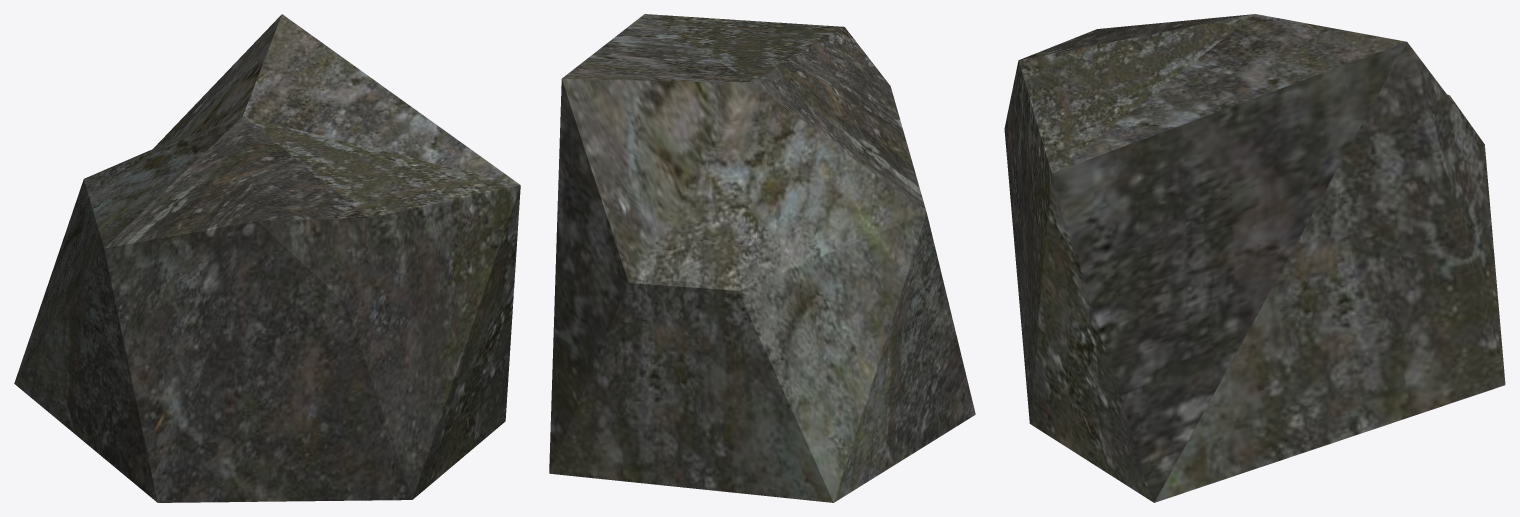
File: singleBigRock.fbx
The picture shows the model from 3 angles, left to right: view 1: azimuth 30°, elevation 25°; view 2: azimuth 150°, elevation 25°; view 3: azimuth 270°, elevation 25°; orthographic projection. The views are drawn at different scales.
Parts seen in each view (by area): view 1: Icosphere; view 2: Icosphere; view 3: Icosphere.
Boxes of the visible parts, x1,y1,x2,y2 form: Icosphere: [14, 14, 520, 502]; Icosphere: [549, 14, 975, 502]; Icosphere: [1004, 14, 1505, 502].
Bounding box in the file's own units: 114 × 105 × 119.
1 material, 1 textured.
